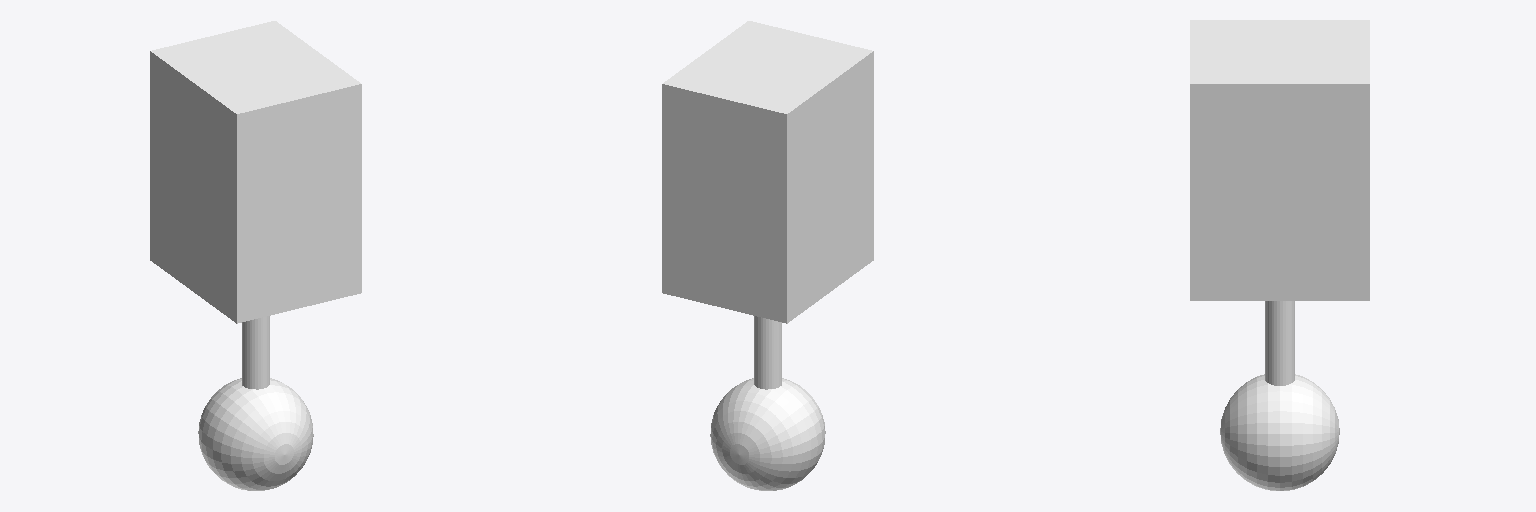
robot.urdf — robot_model:
<?xml version="1.0" ?>
<robot name="robot_model">
    <material name="material_0">
        <color rgba="1.0 1.0 1.0 1.0" />
        <texture filename="wood_0.png" />
    </material>
    <link name="base_link">
        <visual>
            <geometry>
                <box size="0.25 0.4 0.3" />
            </geometry>
            <origin rpy="1.5708 -0 0" xyz="0 0 0" />
            <material name="material_0" />
        </visual>
        <collision>
            <geometry>
                <box size="0.25 0.4 0.3" />
            </geometry>
            <origin rpy="1.5708 -0 0" xyz="0 0 0" />
        </collision>
        <inertial>
            <origin rpy="0 -0 0" xyz="0 0 0" />
            <mass value="20" />
            <inertia xx="0.416667" xy="0" xz="0" yy="0.254167" yz="0" zz="0.370833" />
        </inertial>
    </link>
    <link name="leg">
        <visual>
            <geometry>
                <cylinder length="0.35" radius="0.025" />
                <newton replaceWith="capsule" />
            </geometry>
            <origin rpy="0 -0 0" xyz="-4.70875e-08 -4.70875e-08 0.15" />
            <material name="material_0" />
        </visual>
        <collision>
            <geometry>
                <cylinder length="0.35" radius="0.025" />
                <newton replaceWith="capsule" />
            </geometry>
            <origin rpy="0 -0 0" xyz="-4.70875e-08 -4.70875e-08 0.15" />
        </collision>
        <inertial>
            <origin rpy="0 -0 0" xyz="-4.85769e-08 -4.6937e-08 0.15" />
            <mass value="1" />
            <inertia xx="0.00932827" xy="8.89871e-16" xz="0" yy="0.000298036" yz="5.66948e-09" zz="0.00932827" />
        </inertial>
    </link>
    <joint name="leg_to_base_link" type="continuous">
        <parent link="base_link" />
        <child link="leg" />
        <newton springPD="1500.000000" damperPD="40.000000" regularizer="0.020000" />
        <origin rpy="3.14159 -6.27833e-07 -1.5708" xyz="0 -6.27833e-08 -0.2" />
    </joint>
    <link name="wheel">
        <visual>
            <geometry>
                <sphere radius="0.1" />
            </geometry>
            <origin rpy="-0 1.5708 0" xyz="0 0 0" />
            <material name="material_0" />
        </visual>
        <collision>
            <geometry>
                <sphere radius="0.1" />
            </geometry>
            <origin rpy="-0 1.5708 0" xyz="0 0 0" />
        </collision>
        <inertial>
            <origin rpy="0 -0 0" xyz="0 0 -0" />
            <mass value="1" />
            <inertia xx="0.004" xy="0" xz="0" yy="0.004" yz="0" zz="0.004" />
        </inertial>
    </link>
    <joint name="wheel_to_leg" type="continuous">
        <parent link="leg" />
        <child link="wheel" />
        <newton springPD="0.000000" damperPD="0.200000" regularizer="0.020000" />
        <origin rpy="0 -0 0" xyz="-9.41749e-08 -9.41749e-08 0.3" />
    </joint>
</robot>

--- Render facts (derived) ---
Views: 3 orthographic renders of the robot side by side, from view 1: azimuth 30°, elevation 25°; view 2: azimuth 150°, elevation 25°; view 3: azimuth 270°, elevation 25°.
Model robot_model with 3 links and 2 joints (2 continuous), rooted at base_link, posed every joint at zero.
Visible links, largest first — view 1: base_link, wheel, leg; view 2: base_link, wheel, leg; view 3: base_link, wheel, leg.
Boxes of the visible links, box(x1,y1,x2,y2) form: base_link: box(150, 21, 361, 323); wheel: box(198, 378, 313, 490); leg: box(242, 316, 269, 389); base_link: box(662, 21, 873, 323); wheel: box(710, 378, 825, 490); leg: box(754, 316, 781, 389); base_link: box(1190, 20, 1369, 300); wheel: box(1220, 374, 1339, 490); leg: box(1265, 301, 1294, 385).
Bounding box of the posed robot: 0.25 × 0.3 × 0.8 m (x, y, z).
Geometry: primitives only (box / cylinder / sphere), no mesh files.
